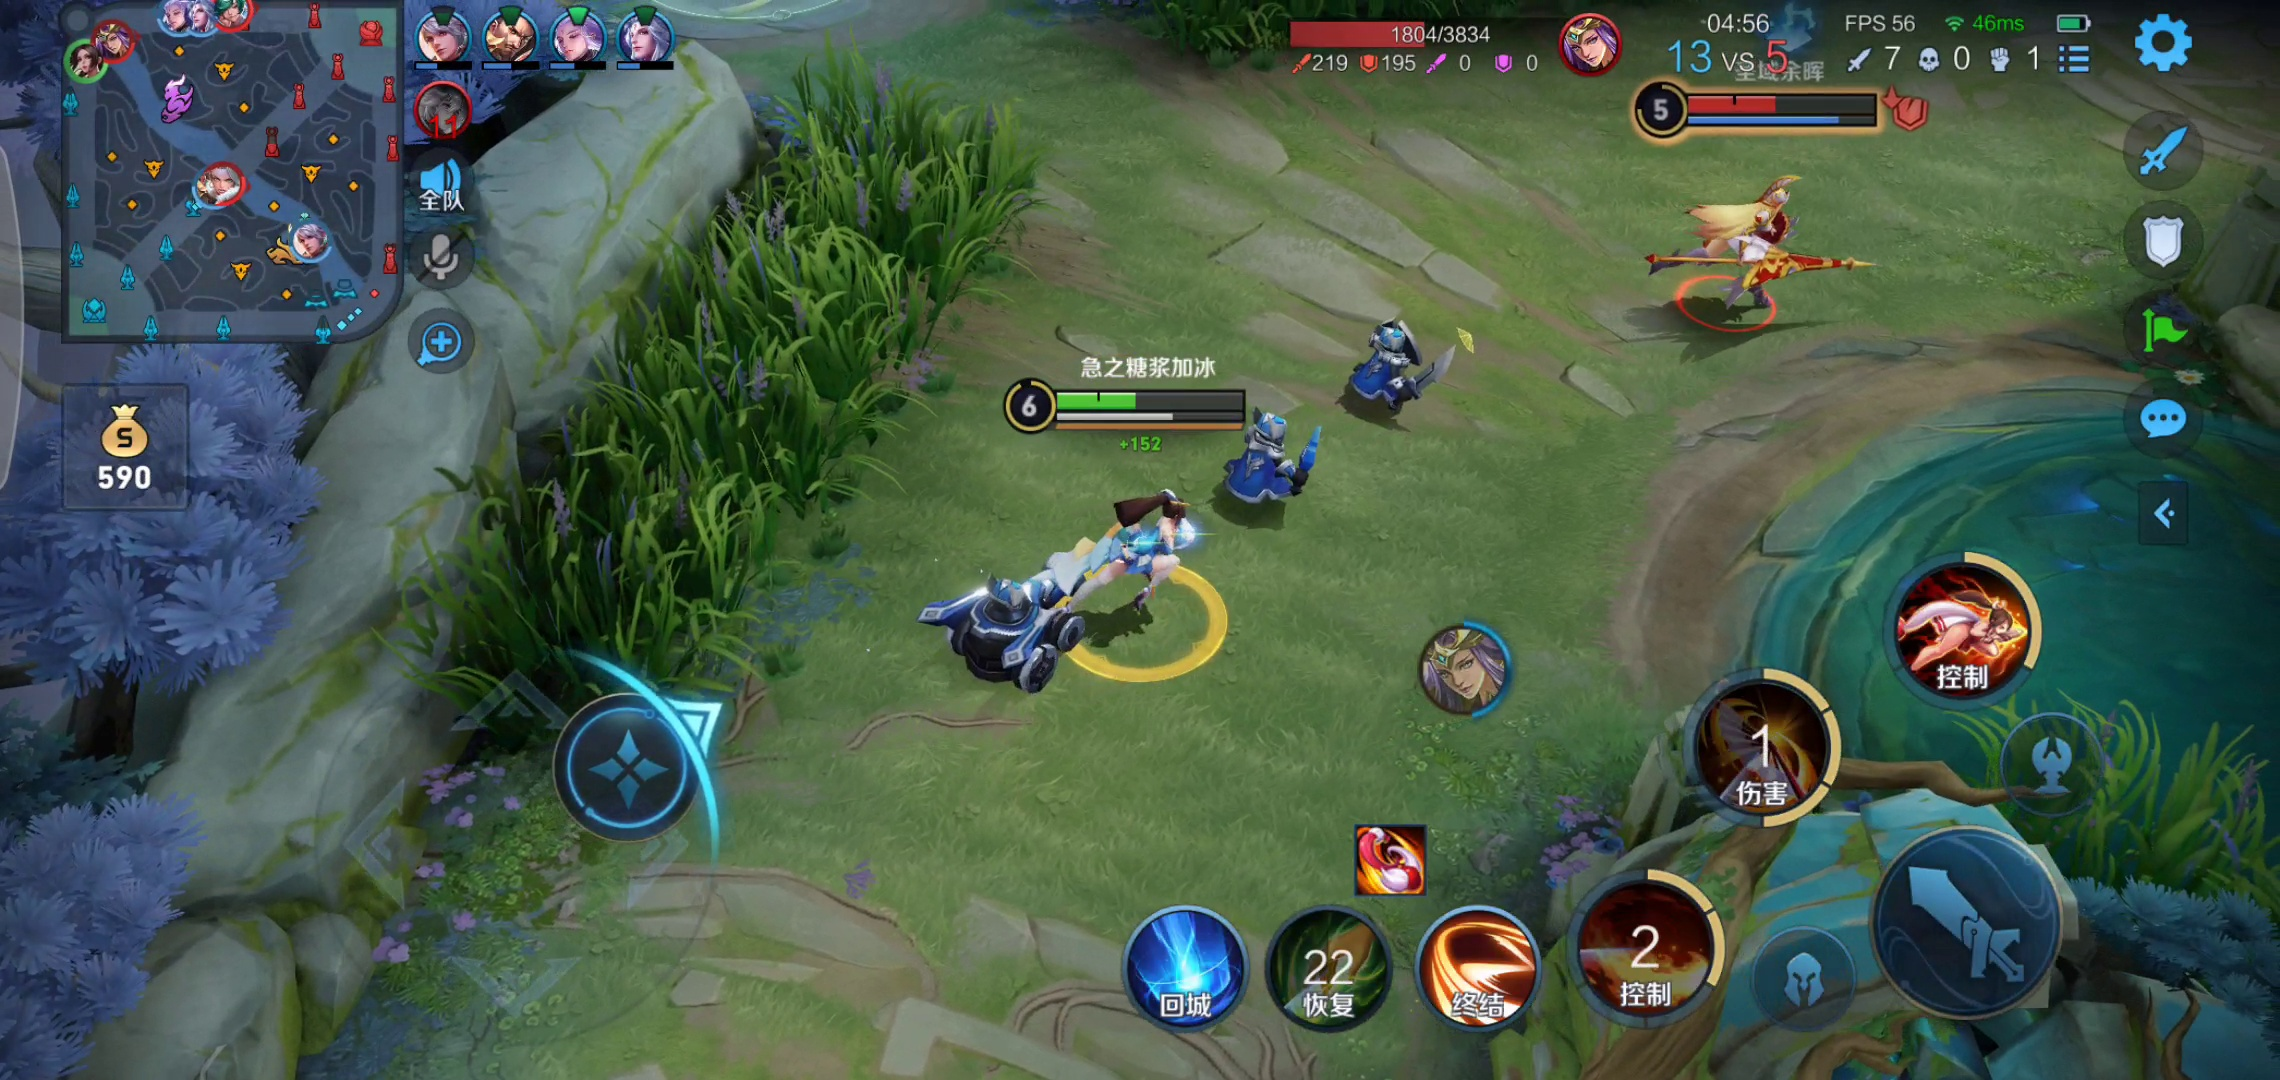grass: (468, 83, 1032, 722), (1951, 709, 2279, 906)
hero: (1658, 169, 1847, 342), (1064, 480, 1201, 632)
soldier: (952, 551, 1072, 682), (1339, 307, 1456, 424), (1203, 416, 1322, 519)
